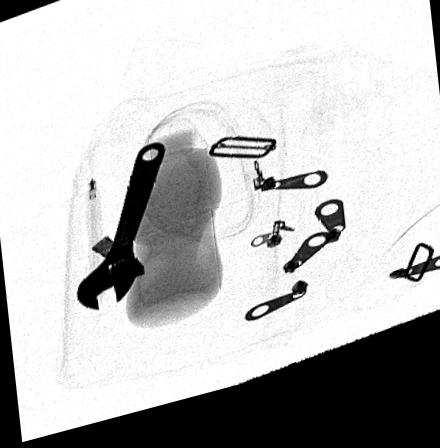Wrench: (78, 149, 168, 315)
